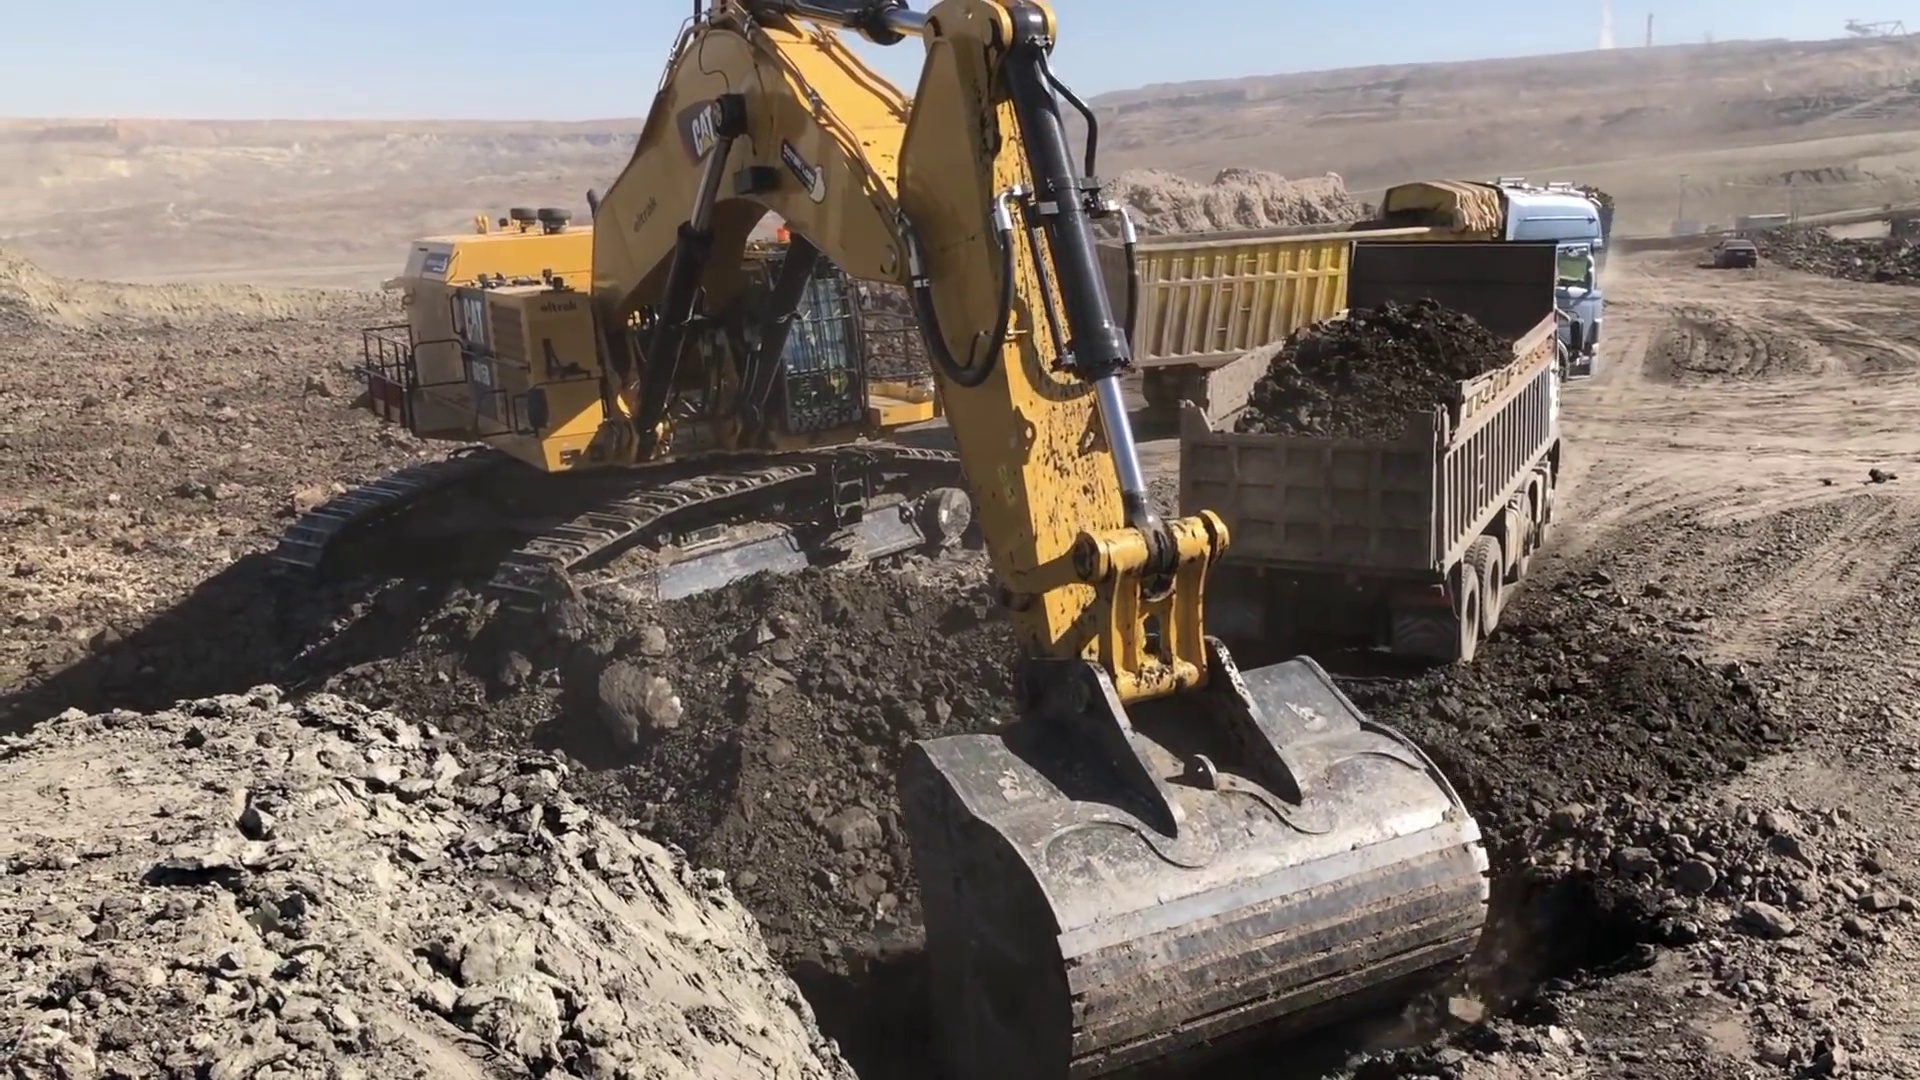car: (1720, 239, 1756, 270)
excavator: (260, 3, 1498, 1071)
truck: (1179, 237, 1571, 674), (1106, 187, 1609, 384)
